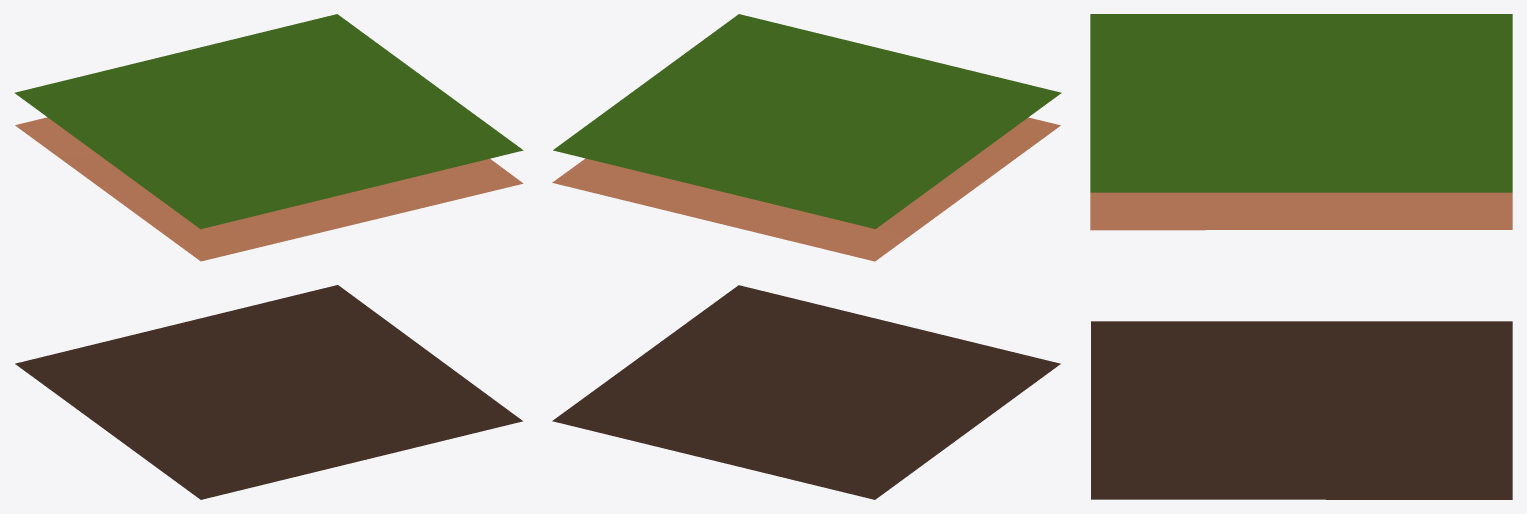
Rendered from GroundTile_3 (117).fbx.
3 renders of one model, left to right at view 1: azimuth 30°, elevation 25°; view 2: azimuth 150°, elevation 25°; view 3: azimuth 270°, elevation 25°, orthographic. The views are drawn at different scales.
Parts seen in each view (by area): view 1: GroundTile_3 (117); view 2: GroundTile_3 (117); view 3: GroundTile_3 (117).
Part boxes in pixels (x1,y1,x2,y2): GroundTile_3 (117): (14, 14, 523, 499); GroundTile_3 (117): (552, 14, 1061, 499); GroundTile_3 (117): (1090, 14, 1512, 499).
Size of the model in its own units: 401 by 321 by 400.
Materials: 1 (1 with a texture image).
